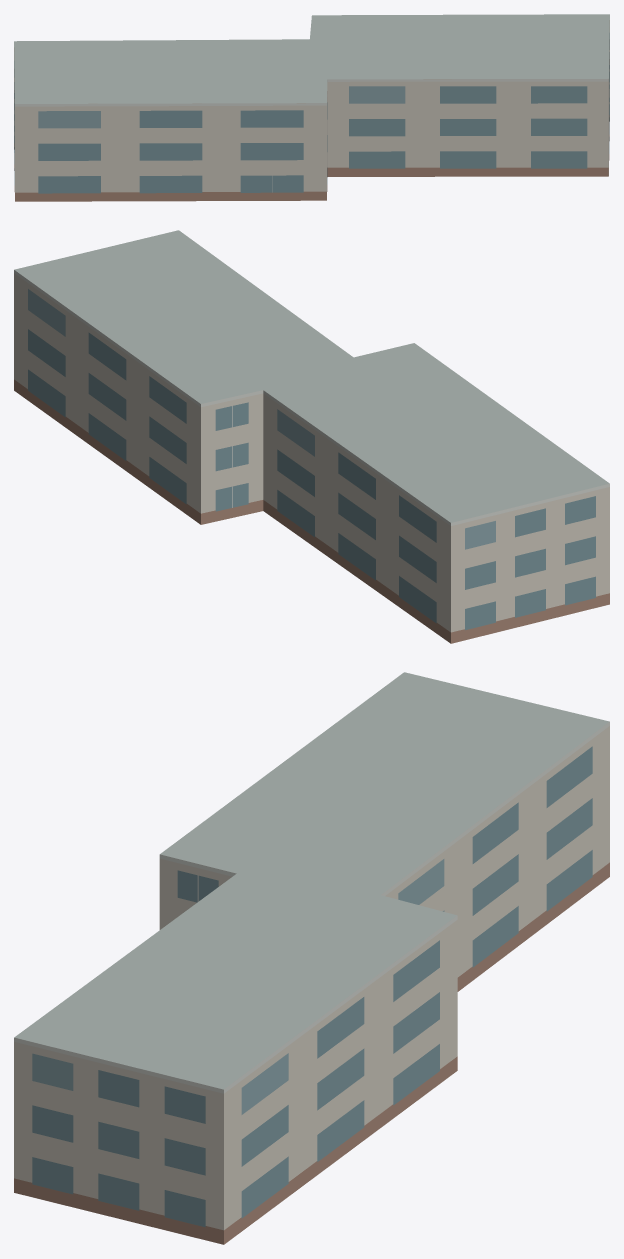
Rendered from survey-upis-32881286.glb.
3 renders of one model, top to bottom at view 1: azimuth 30°, elevation 25°; view 2: azimuth 150°, elevation 25°; view 3: azimuth 270°, elevation 25°, orthographic. The views are drawn at different scales.
Visible parts, largest first — view 1: survey-upis-32881286.tmp; view 2: survey-upis-32881286.tmp; view 3: survey-upis-32881286.tmp.
Boxes of the visible parts, box(x1,y1,x2,y2) form: survey-upis-32881286.tmp: box(14, 14, 609, 201); survey-upis-32881286.tmp: box(14, 230, 609, 643); survey-upis-32881286.tmp: box(14, 672, 609, 1244).
Bounding box in the file's own units: 52.78 × 9.15 × 31.84.
